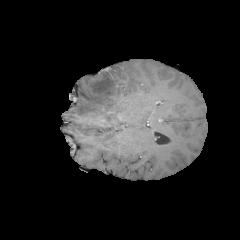glioma: (72, 72, 121, 127)
